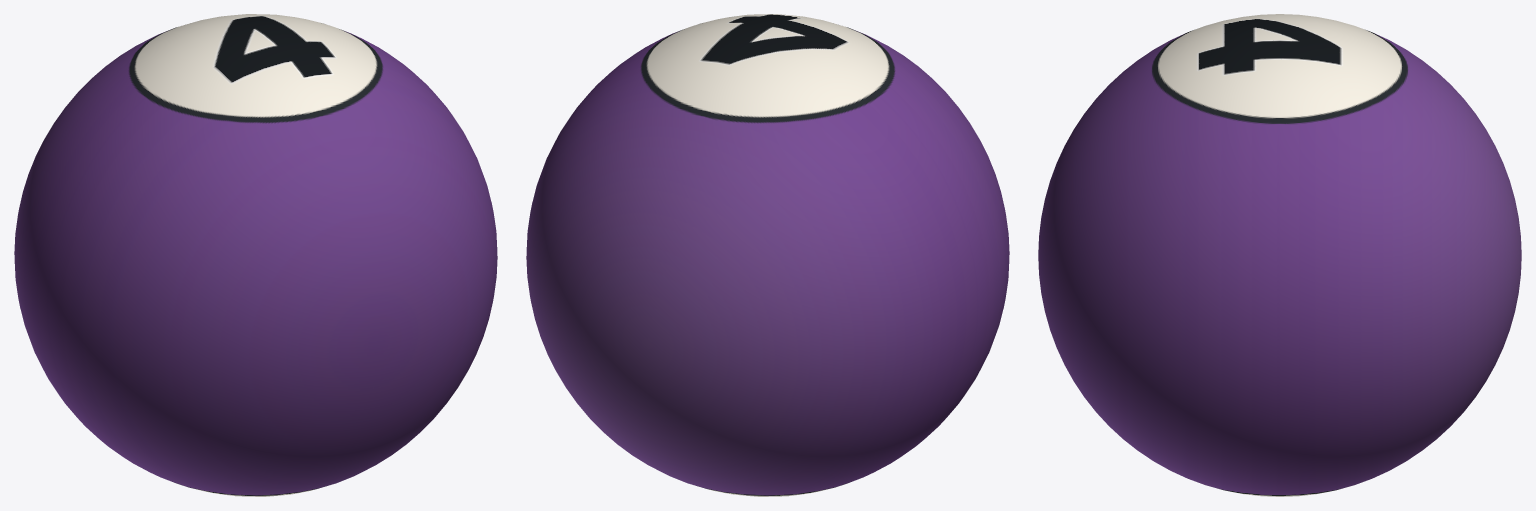
Rendered from ball-pool-4.glb.
3 views of the same model, side by side, from view 1: azimuth 30°, elevation 25°; view 2: azimuth 150°, elevation 25°; view 3: azimuth 270°, elevation 25° (orthographic).
Visible parts, largest first — view 1: ball; view 2: ball; view 3: ball.
Boxes of the visible parts, x1,y1,x2,y2 form: ball: (14,14,497,496); ball: (526,14,1009,496); ball: (1038,14,1521,496).
Bounding box in the file's own units: 0.0655 × 0.0655 × 0.0655.
1 material, 1 textured.
